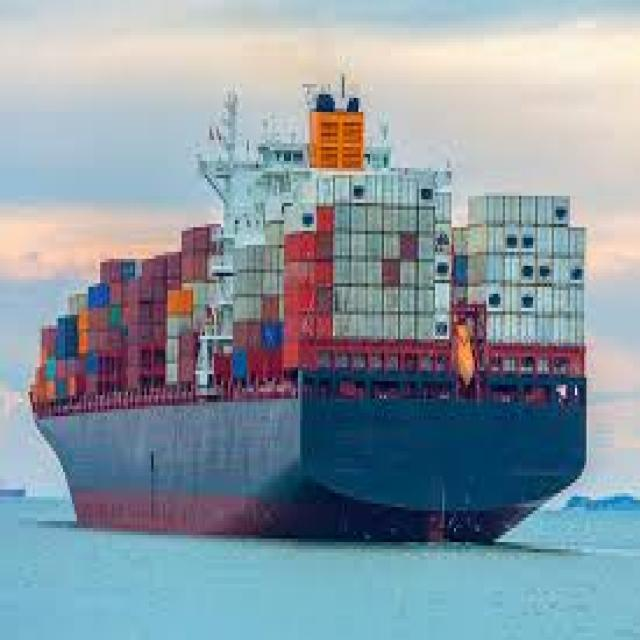cargoship: (31, 74, 584, 544)
